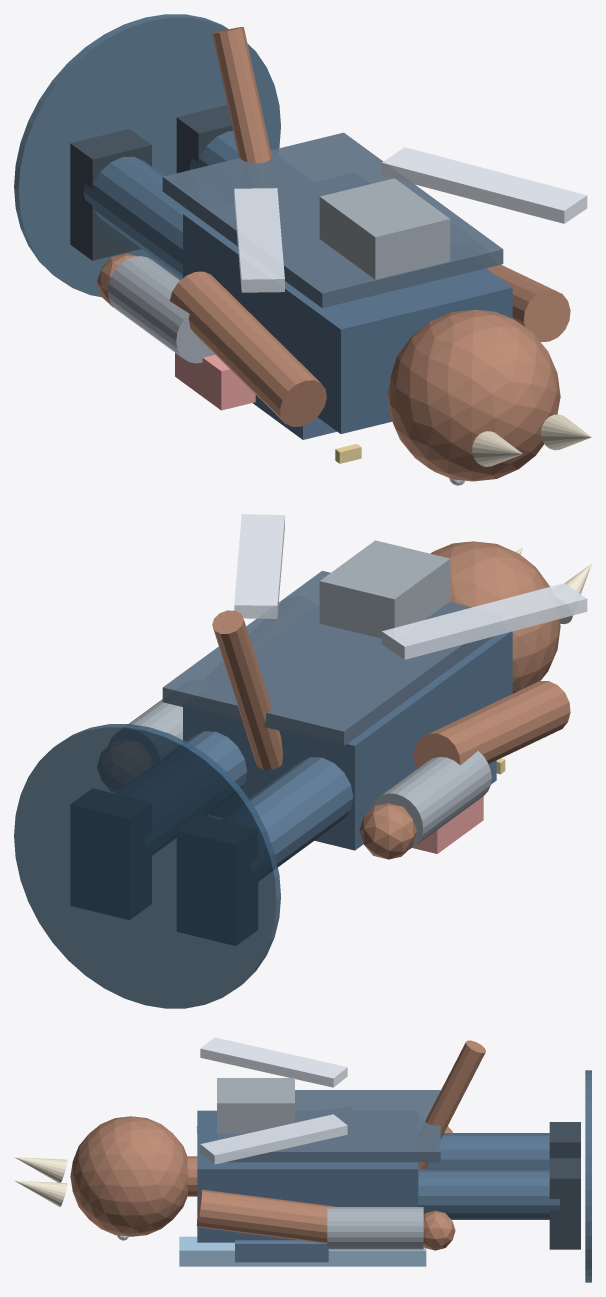
The model's file is SW_NPC_005_elowen_noxwind.glb.
3 renders of one model, top to bottom at view 1: azimuth 30°, elevation 25°; view 2: azimuth 150°, elevation 25°; view 3: azimuth 270°, elevation 25°, orthographic. The views are drawn at different scales.
Parts seen in each view (by area): view 1: round_base_plate, head, torso_uniform, storm_cloak, left_upper_arm, wingpack_core, left_leg, right_wing_rig, left_forearm_gauntlet, left_boot, left_wing_rig, dragon_tail (+8 smaller); view 2: round_base_plate, storm_cloak, torso_uniform, wingpack_core, head, left_upper_arm, left_wing_rig, left_leg, left_forearm_gauntlet, dragon_tail, right_wing_rig, left_hand (+3 smaller); view 3: head, torso_uniform, storm_cloak, right_leg, right_upper_arm, right_forearm_gauntlet, left_leg, wingpack_core, rank_sash, right_wing_rig, left_wing_rig, right_boot (+8 smaller).
Part boxes in pixels (x1,y1,x2,y2): round_base_plate: (14,14,280,297); head: (387,309,560,481); torso_uniform: (183,212,512,433); storm_cloak: (162,132,503,308); left_upper_arm: (169,271,326,426); wingpack_core: (319,178,450,279); left_leg: (83,156,190,278); right_wing_rig: (381,147,587,223); left_forearm_gauntlet: (107,256,214,363); left_boot: (70,129,151,260); left_wing_rig: (234,188,284,292); dragon_tail: (212,27,271,163); round_base_plate: (14,724,280,1008); storm_cloak: (162,570,493,746); torso_uniform: (183,631,512,850); wingpack_core: (319,540,450,638); head: (430,541,560,693); left_upper_arm: (413,681,570,768); left_wing_rig: (381,583,587,659); left_leg: (249,757,353,867); left_forearm_gauntlet: (371,751,491,848); dragon_tail: (212,610,282,769); right_wing_rig: (234,514,284,618); left_hand: (359,803,416,859); head: (70,1116,188,1236); torso_uniform: (197,1110,418,1242); storm_cloak: (217,1090,440,1162); right_leg: (418,1169,559,1219); right_upper_arm: (196,1189,336,1243); right_forearm_gauntlet: (327,1207,423,1249); left_leg: (425,1133,549,1169); wingpack_core: (217,1078,294,1133); rank_sash: (179,1236,426,1266); right_wing_rig: (200,1114,347,1164); left_wing_rig: (200,1037,347,1087); right_boot: (549,1158,580,1249).
Bounding box in the file's own units: 1.16 × 1.06 × 2.4.
